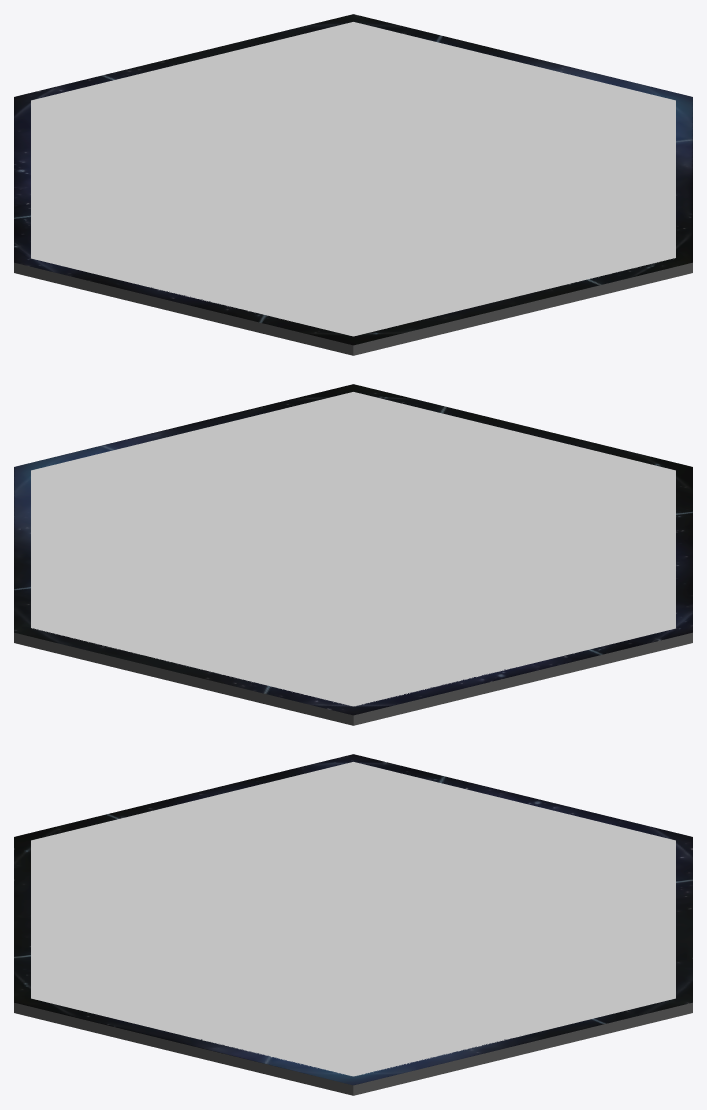
The model's file is System.glb.
3 views of the same model, one above another, from view 1: azimuth 30°, elevation 25°; view 2: azimuth 150°, elevation 25°; view 3: azimuth 270°, elevation 25° (orthographic).
Visible parts, largest first — view 1: space.009, top, sides; view 2: space.009, top, sides; view 3: space.009, top, sides.
Part boxes in pixels (x1=…): space.009: x1=31, y1=22, x2=675, y2=336; top: x1=14, y1=14, x2=692, y2=345; sides: x1=14, y1=262, x2=692, y2=355; space.009: x1=31, y1=392, x2=675, y2=706; top: x1=14, y1=384, x2=692, y2=715; sides: x1=14, y1=632, x2=692, y2=725; space.009: x1=31, y1=762, x2=675, y2=1076; top: x1=14, y1=754, x2=692, y2=1085; sides: x1=14, y1=1002, x2=692, y2=1095.
Size of the model in its own units: 0.116 by 0.0018 by 0.1005.
Materials: 2 (1 with a texture image).
